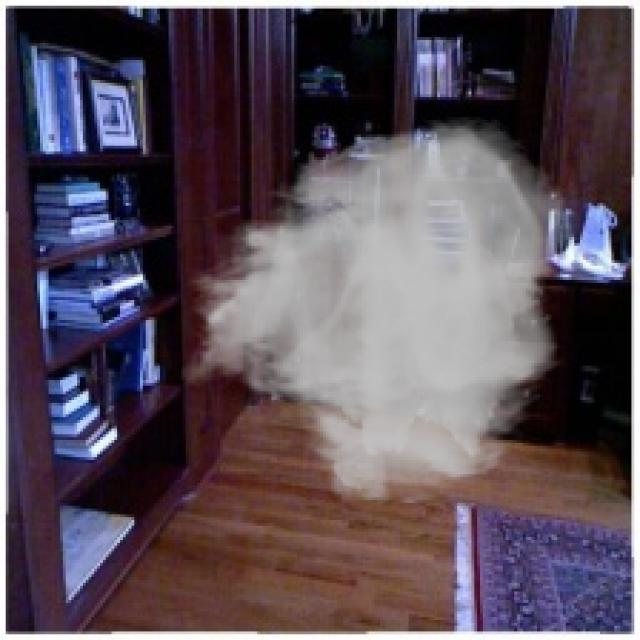smoke: (177, 114, 577, 509)
